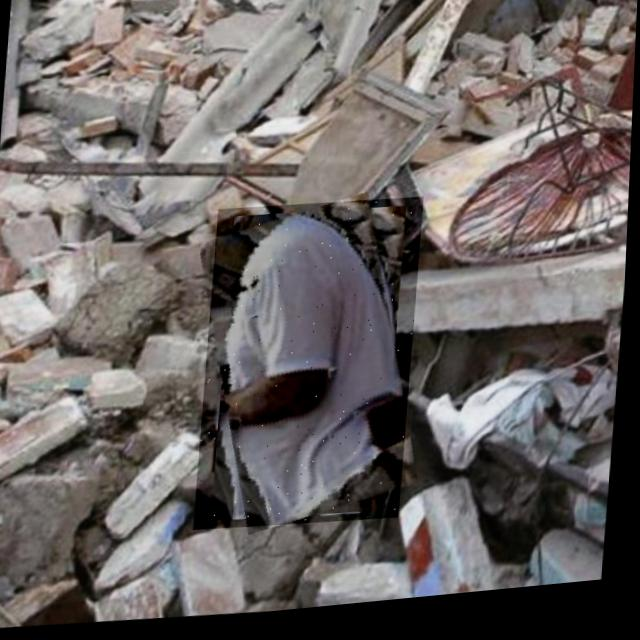Person in Rubble: (198, 198, 426, 541)
